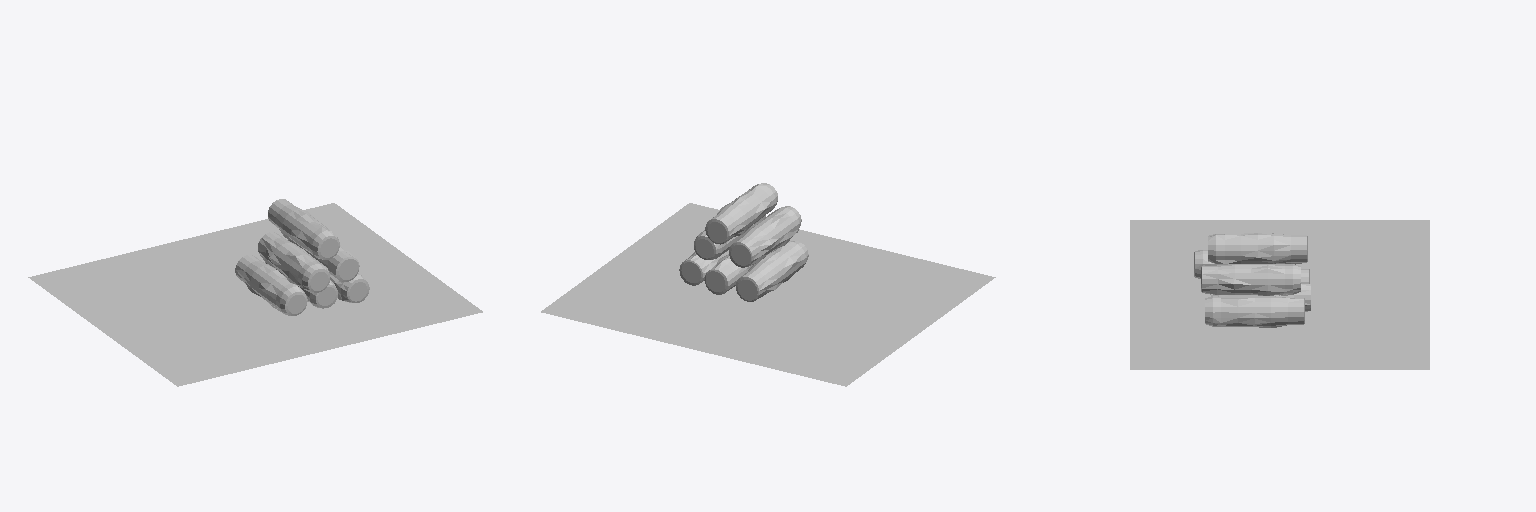
File: wood.obj
3 views of the same model, side by side, from view 1: azimuth 30°, elevation 25°; view 2: azimuth 150°, elevation 25°; view 3: azimuth 270°, elevation 25° (orthographic).
Bounding box in the file's own units: 22.58 × 5.73 × 19.1.